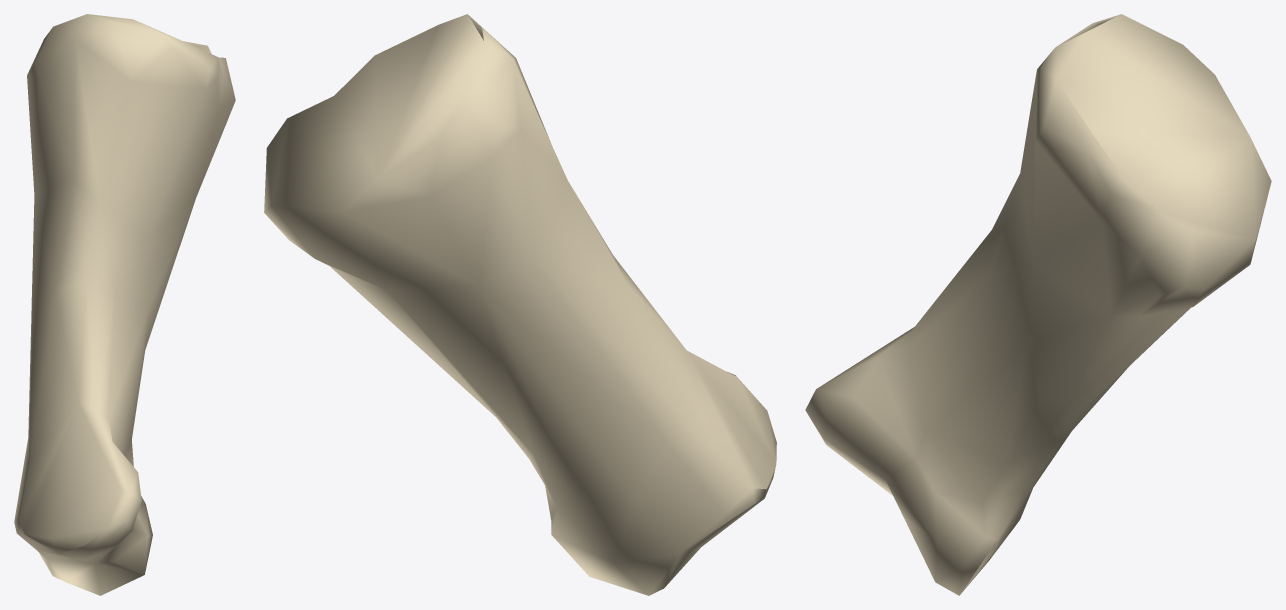
Rendered from esqueleto-proximal-phalanx-of-first-finger-of-hand-r.glb.
The picture shows the model from 3 angles, left to right: view 1: azimuth 30°, elevation 25°; view 2: azimuth 150°, elevation 25°; view 3: azimuth 270°, elevation 25°; orthographic projection. The views are drawn at different scales.
Visible parts, largest first — view 1: Proximal phalanx of first finger of hand.r; view 2: Proximal phalanx of first finger of hand.r; view 3: Proximal phalanx of first finger of hand.r.
Part boxes in pixels (x1=…): Proximal phalanx of first finger of hand.r: x1=14, y1=14, x2=235, y2=595; Proximal phalanx of first finger of hand.r: x1=264, y1=14, x2=776, y2=595; Proximal phalanx of first finger of hand.r: x1=805, y1=14, x2=1271, y2=595.
Bounding box in the file's own units: 0.0209 × 0.0325 × 0.023.
